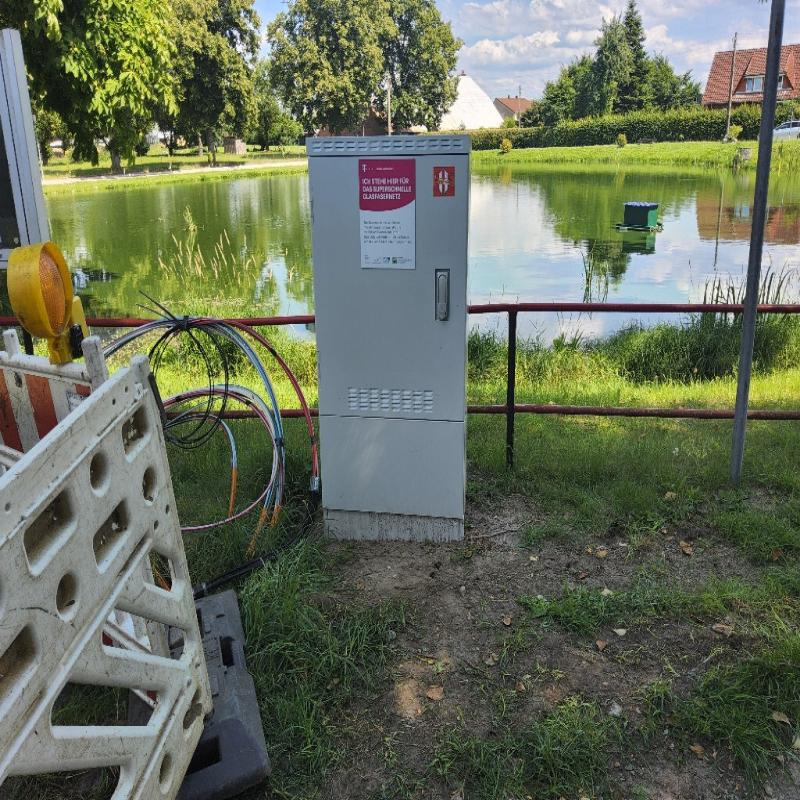NT-Gehause: (306, 143, 469, 544)
Orang-Speednetrohrchen: (214, 326, 287, 556), (226, 468, 237, 519)
Steaker: (360, 153, 416, 271)
